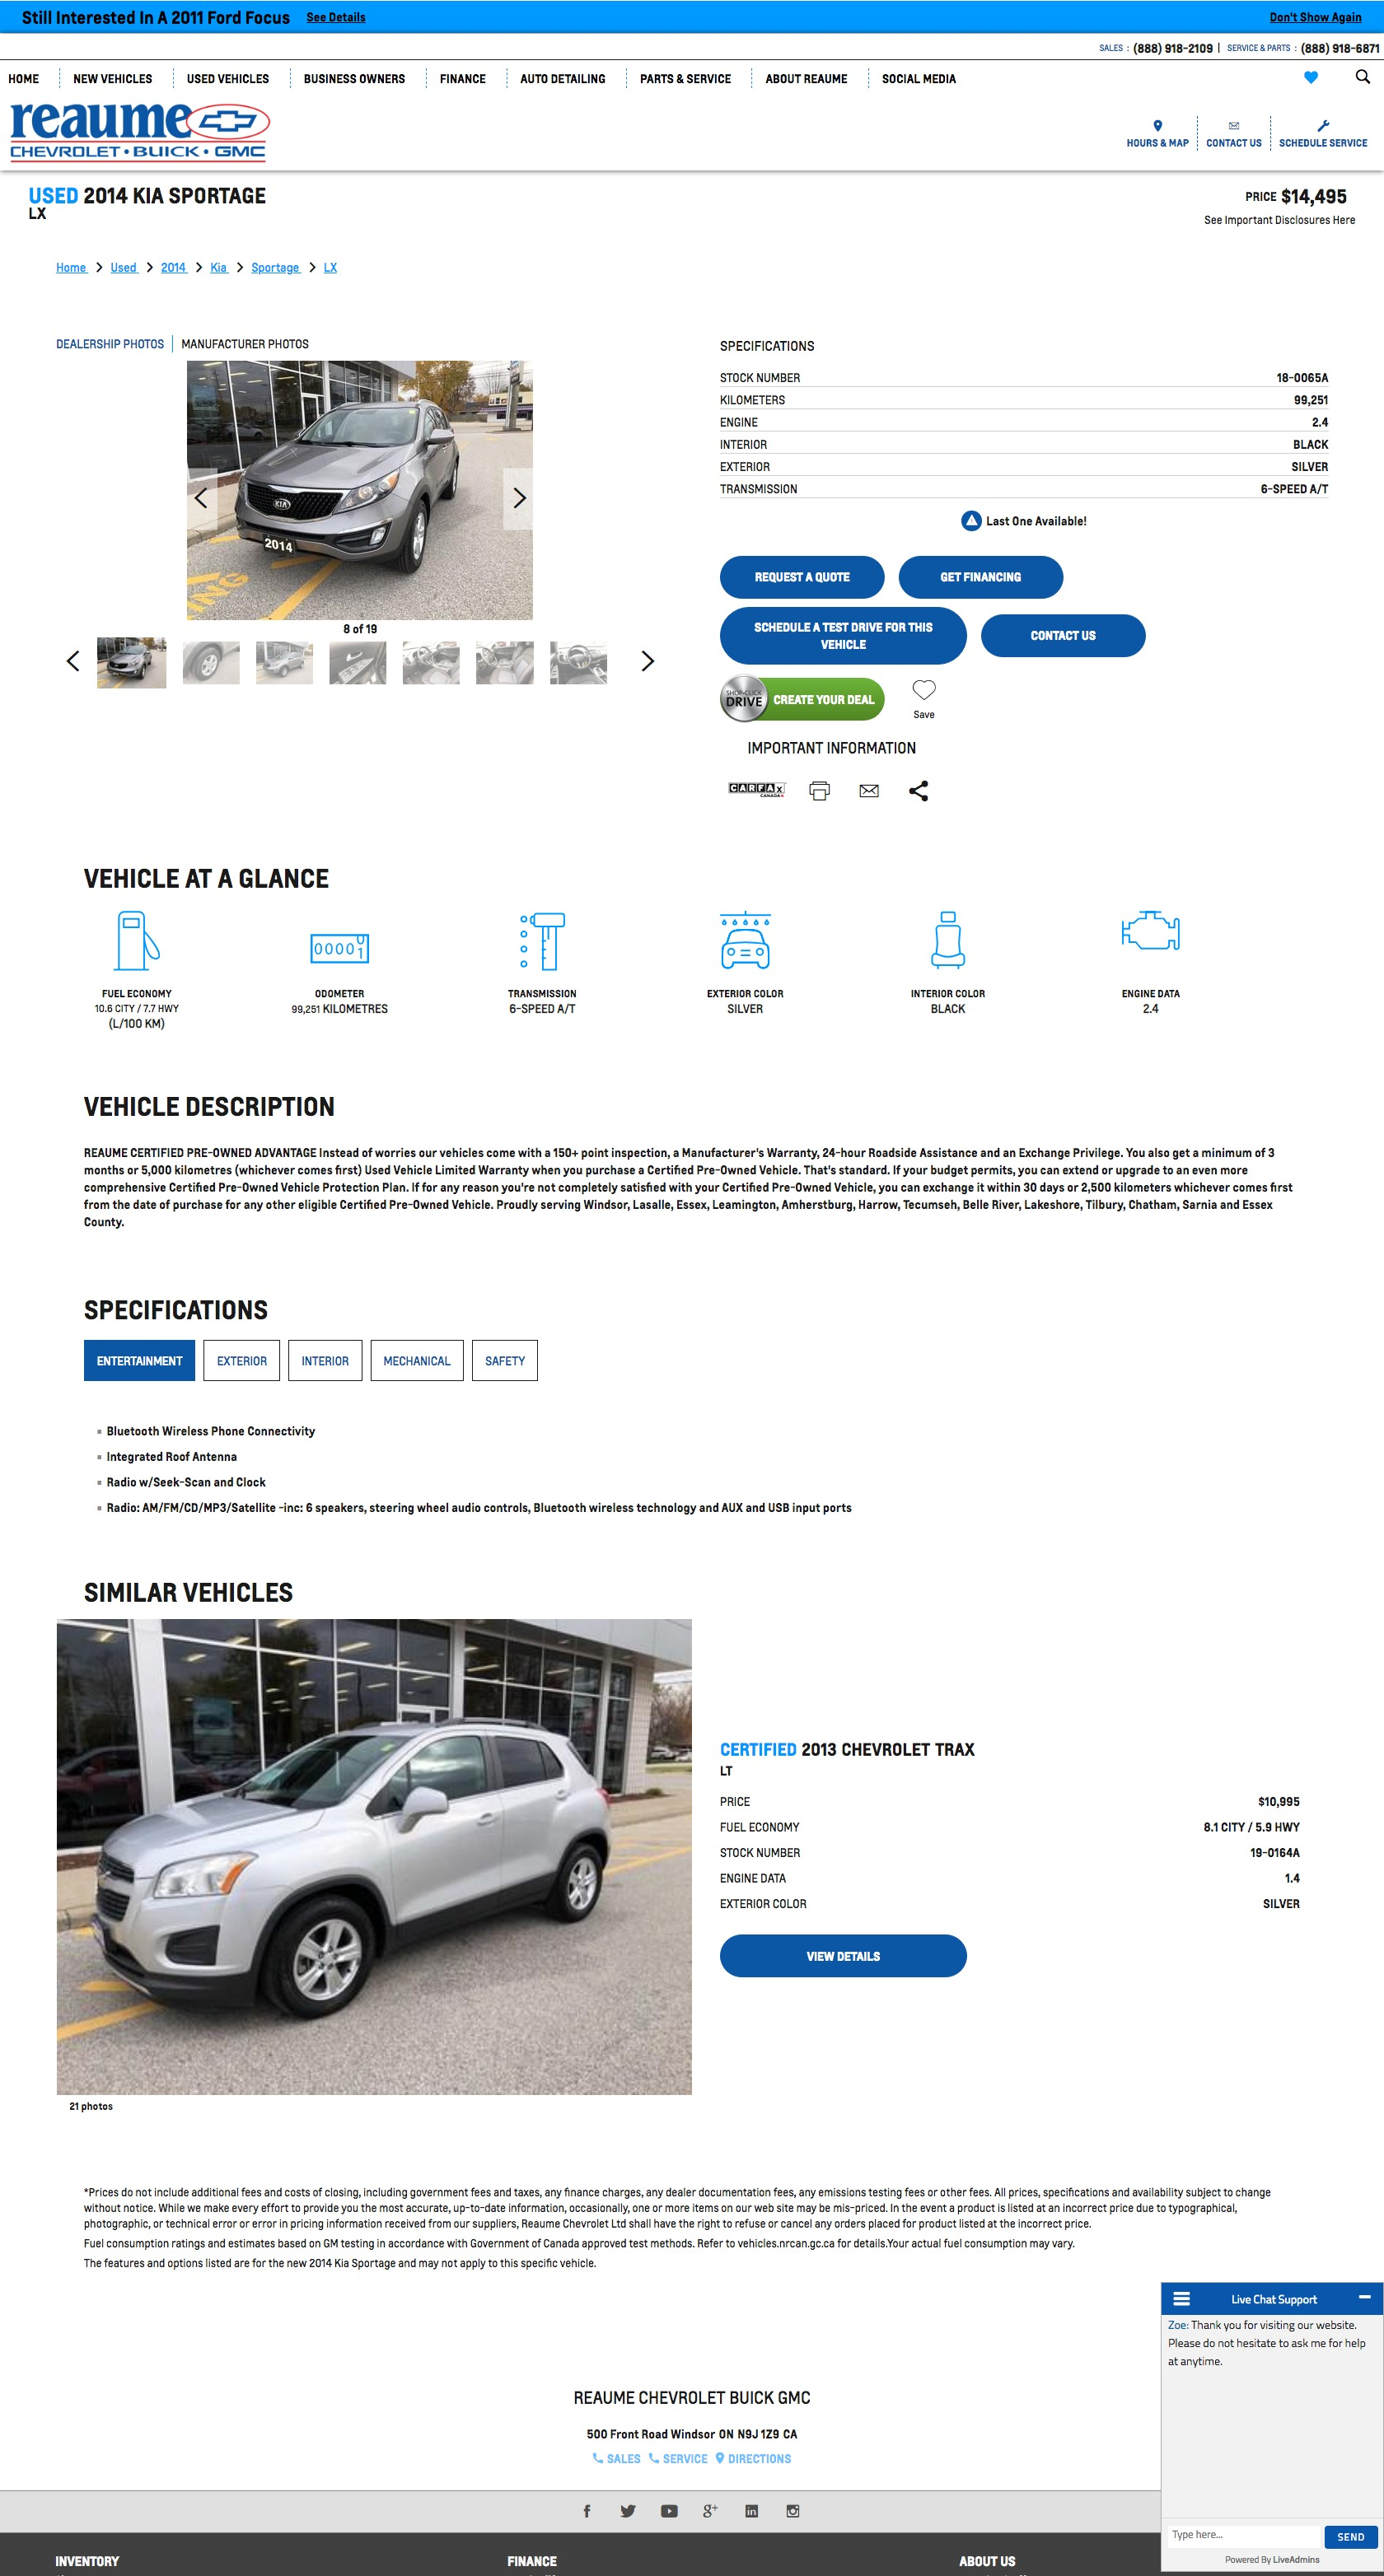car: (641, 649, 658, 673)
